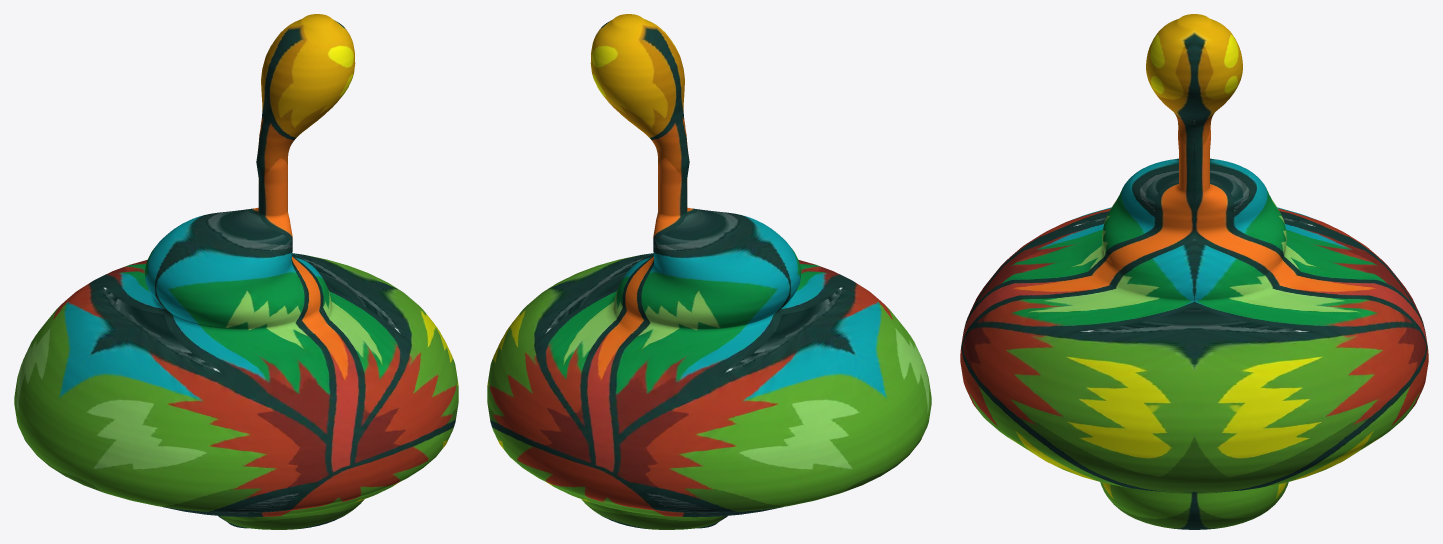
The model's file is gold_bud.glb.
3 views of the same model, side by side, from view 1: azimuth 30°, elevation 25°; view 2: azimuth 150°, elevation 25°; view 3: azimuth 270°, elevation 25° (orthographic). The views are drawn at different scales.
Visible parts, largest first — view 1: gold_bud; view 2: gold_bud; view 3: gold_bud.
Boxes of the visible parts, x1,y1,x2,y2 form: gold_bud: (14, 14, 458, 529); gold_bud: (487, 14, 931, 529); gold_bud: (960, 14, 1428, 529).
Size of the model in its own units: 1 by 1.2 by 1.
Materials: 1 (1 with a texture image).
